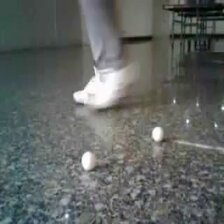w: (80, 151, 99, 171), (151, 126, 165, 142)
